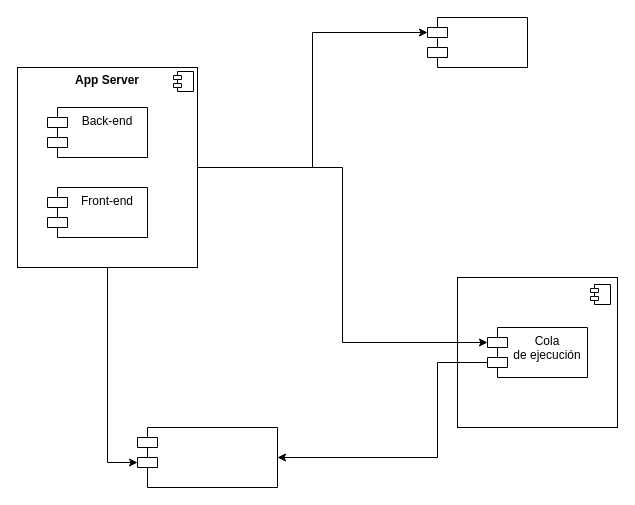
The diagram is 635 pixels wide and 505 high, and some of its shapes have lost their labels. Here are the shapes that lost their labels. From the top down, the centre of each, then its label:
At (477,42): "Base de Datos".
At (207,457): "Componente de pruebas".
